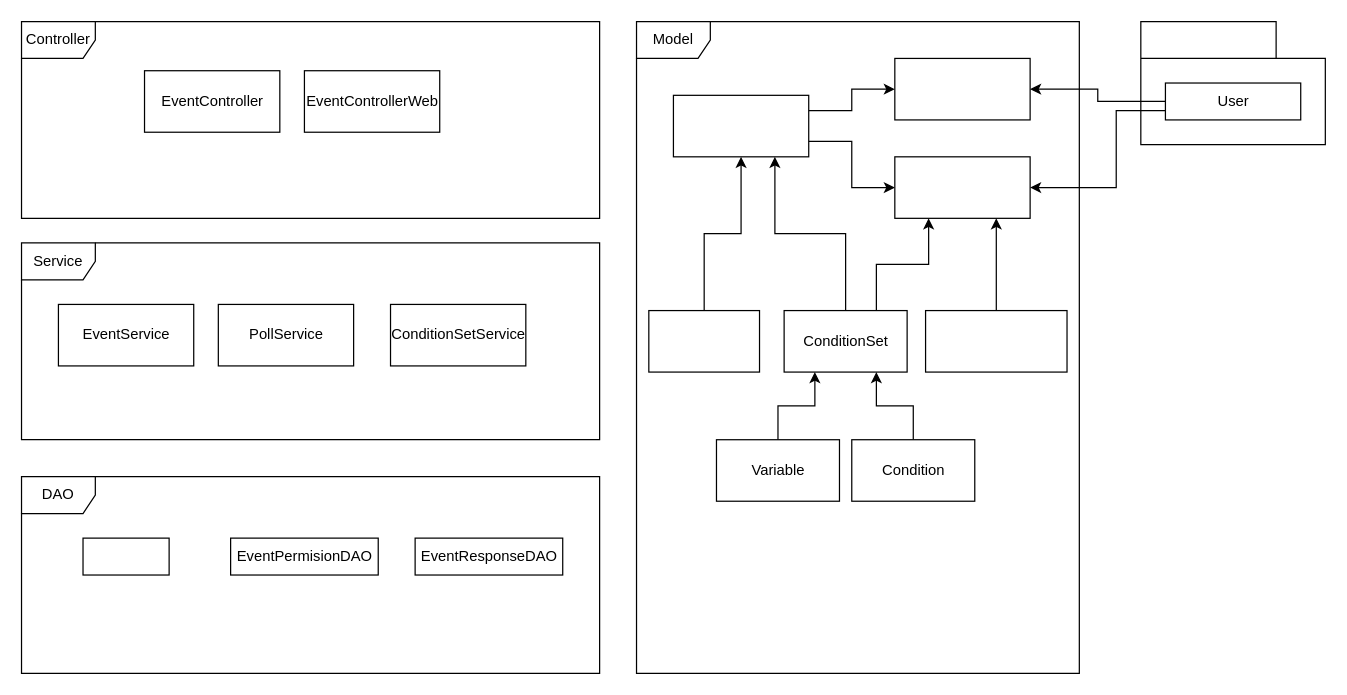
The diagram is 1347 pixels wide and 695 high, and some of its shapes have lost their labels. Each missing label, with the centre of its shape:
"Event" belongs at [740,125].
"EventDAO" belongs at [125,556].
"EventPermission" belongs at [962,88].
"EventResponse" belongs at [962,187].
"LetsMeet.User" belongs at [1232,82].
"Poll" belongs at [704,340].
"PollResponse" belongs at [995,340].
